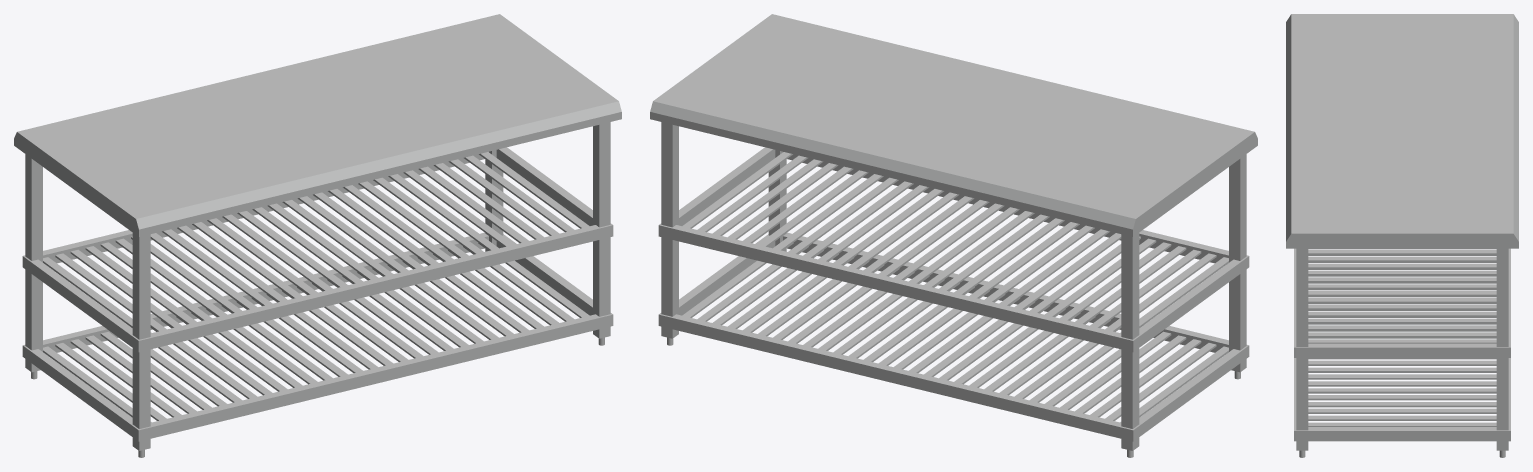
Rendered from Prop_Work_Bench.fbx.
The picture shows the model from 3 angles, left to right: view 1: azimuth 30°, elevation 25°; view 2: azimuth 150°, elevation 25°; view 3: azimuth 270°, elevation 25°; orthographic projection. The views are drawn at different scales.
Parts seen in each view (by area): view 1: Prop_Work_Bench; view 2: Prop_Work_Bench; view 3: Prop_Work_Bench.
Part boxes in pixels (x1=…): Prop_Work_Bench: x1=14, y1=14, x2=621, y2=457; Prop_Work_Bench: x1=650, y1=14, x2=1257, y2=457; Prop_Work_Bench: x1=1286, y1=14, x2=1518, y2=457.
Size of the model in its own units: 95.97 by 46.44 by 42.95.
